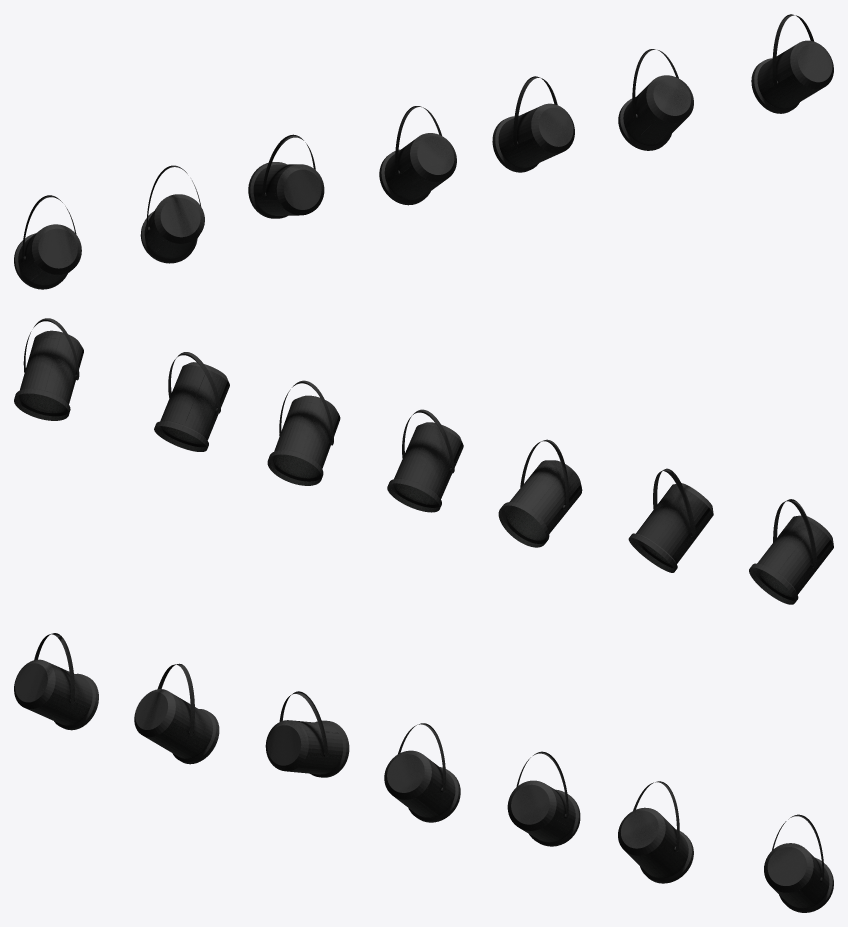
The model's file is Lights.dae.
3 renders of one model, top to bottom at view 1: azimuth 30°, elevation 25°; view 2: azimuth 150°, elevation 25°; view 3: azimuth 330°, elevation 25°, orthographic.
Parts seen in each view (by area): view 1: Lights; view 2: Lights; view 3: Lights.
Part boxes in pixels (<box>): Lights: <box>14,14,833,289</box>; Lights: <box>14,318,833,604</box>; Lights: <box>14,633,833,912</box>.
Bounding box in the file's own units: 11.92 × 1.42 × 1.43.
1 material, 1 textured.
